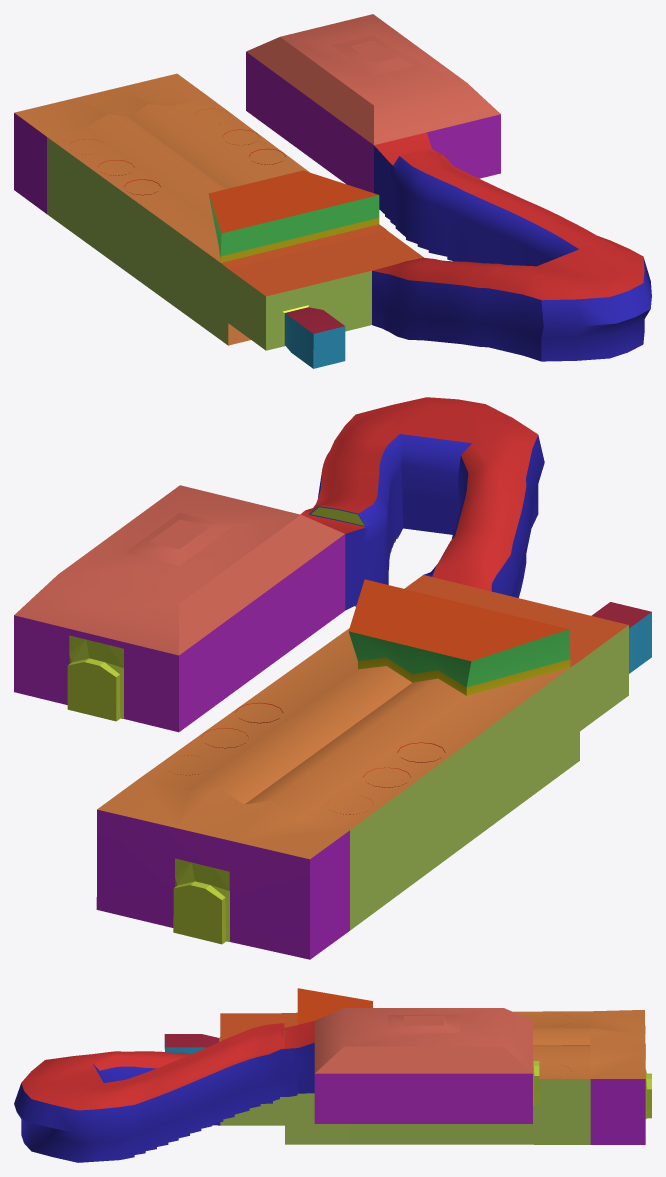
Rendered from Castle_With_MatID.fbx.
3 views of the same model, one above another, from view 1: azimuth 30°, elevation 25°; view 2: azimuth 150°, elevation 25°; view 3: azimuth 270°, elevation 25° (orthographic). The views are drawn at different scales.
Parts seen in each view (by area): view 1: Spi_Stair_Walls, L1_Roof, Com_Room_R1_Roof, L1_Walls, Spi_Stair_Roof, Com_R1_Walls, L2_Flat_Roof, L2__Large_Roof, Entrance__Roof, L2_Interior_Roof_Walls, L2_Back_Wall, Entrance_Walls (+2 smaller); view 2: L1_Roof, Com_Room_R1_Roof, L1_Walls, Com_R1_Walls, Entrance_Walls, Spi_Stair_Roof, Spi_Stair_Walls, L2__Large_Roof, Entrance__Roof, L2_Interior_Roof_Walls, L2_Flat_Roof, Modular_Door_2 (+3 smaller); view 3: Spi_Stair_Walls, Com_Room_R1_Roof, Com_R1_Walls, L1_Walls, Spi_Stair_Roof, L1_Roof, Entrance__Roof, Entrance_Walls, L2__Large_Roof, L2_Flat_Roof, Ob_Room_Roof, Modular_Door_1_ (+1 smaller).
Part boxes in pixels (x1,y1,x2,y2): Spi_Stair_Walls: (372,145,651,361); L1_Roof: (47,97,309,262); Com_Room_R1_Roof: (246,14,500,144); L1_Walls: (47,137,386,350); Spi_Stair_Roof: (372,132,644,300); Com_R1_Walls: (246,52,500,192); L2_Flat_Roof: (221,224,423,296); L2__Large_Roof: (208,170,378,233); Entrance__Roof: (14,73,208,136); L2_Interior_Roof_Walls: (208,194,379,262); L2_Back_Wall: (266,270,371,350); Entrance_Walls: (14,113,46,213); L1_Roof: (139,628,569,830); Com_Room_R1_Roof: (14,485,344,655); L1_Walls: (350,625,628,930); Com_R1_Walls: (14,534,345,732); Entrance_Walls: (96,809,349,959); Spi_Stair_Roof: (300,397,538,591); Spi_Stair_Walls: (318,434,544,610); L2__Large_Roof: (349,579,568,661); Entrance__Roof: (97,779,349,859); L2_Interior_Roof_Walls: (348,629,570,695); L2_Flat_Roof: (404,575,628,667); Modular_Door_2: (67,635,123,721); Spi_Stair_Walls: (14,1043,314,1162); Com_Room_R1_Roof: (314,1008,532,1073); Com_R1_Walls: (314,1073,532,1123); L1_Walls: (220,1079,590,1144); Spi_Stair_Roof: (21,1021,314,1110); L1_Roof: (513,1011,590,1078); Entrance__Roof: (590,1010,645,1078); Entrance_Walls: (590,1026,645,1144); L2__Large_Roof: (297,988,372,1024); L2_Flat_Roof: (220,1012,297,1041); Ob_Room_Roof: (164,1034,219,1047); Modular_Door_1_: (645,1069,651,1118).
Bounding box in the file's own units: 5714 × 3230 × 12259.
